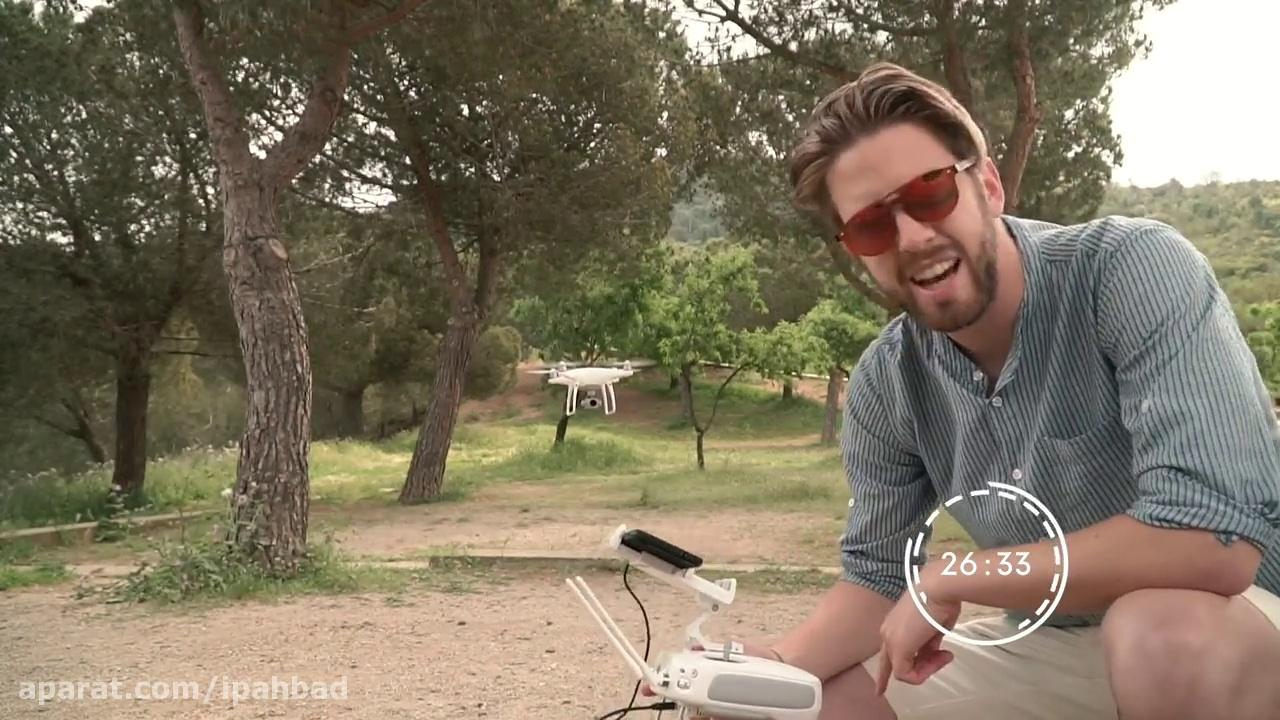drone: (530, 353, 656, 419)
